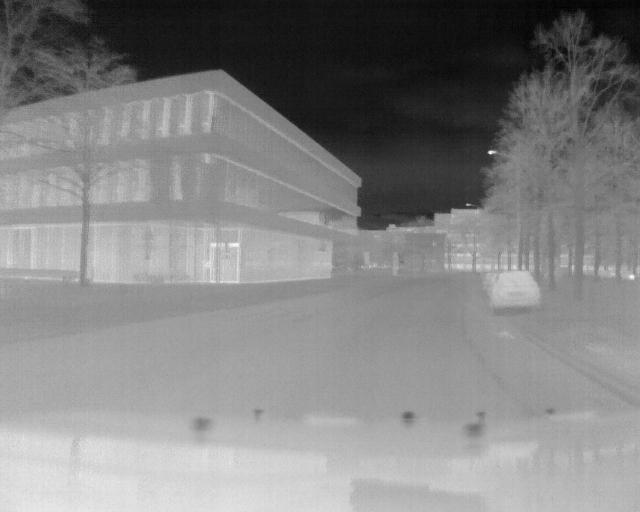car: (489, 271, 540, 316)
